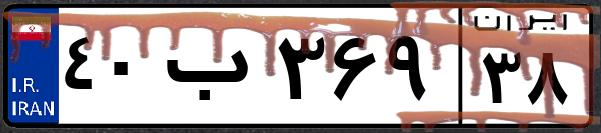0: (110, 28, 158, 98)
3: (270, 28, 330, 110), (475, 38, 525, 113)
4: (57, 26, 110, 100)
6: (330, 28, 385, 110)
8: (525, 38, 570, 115)
9: (385, 28, 445, 110)
ب: (158, 20, 270, 120)
